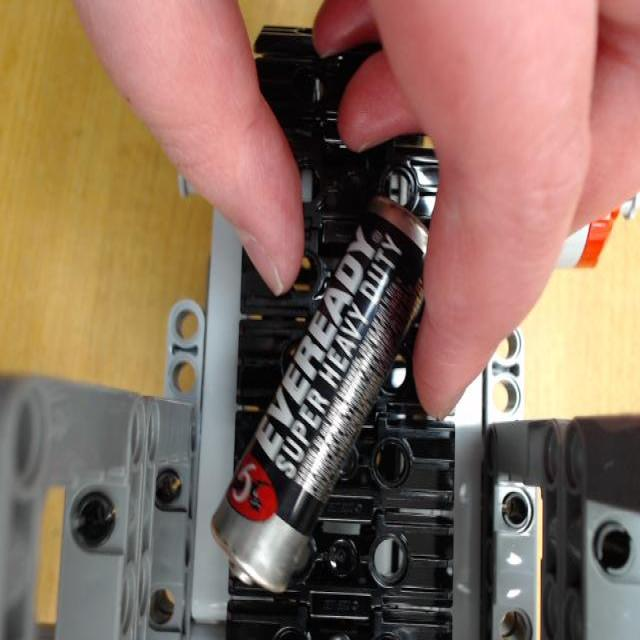AA: (208, 196, 433, 595)
